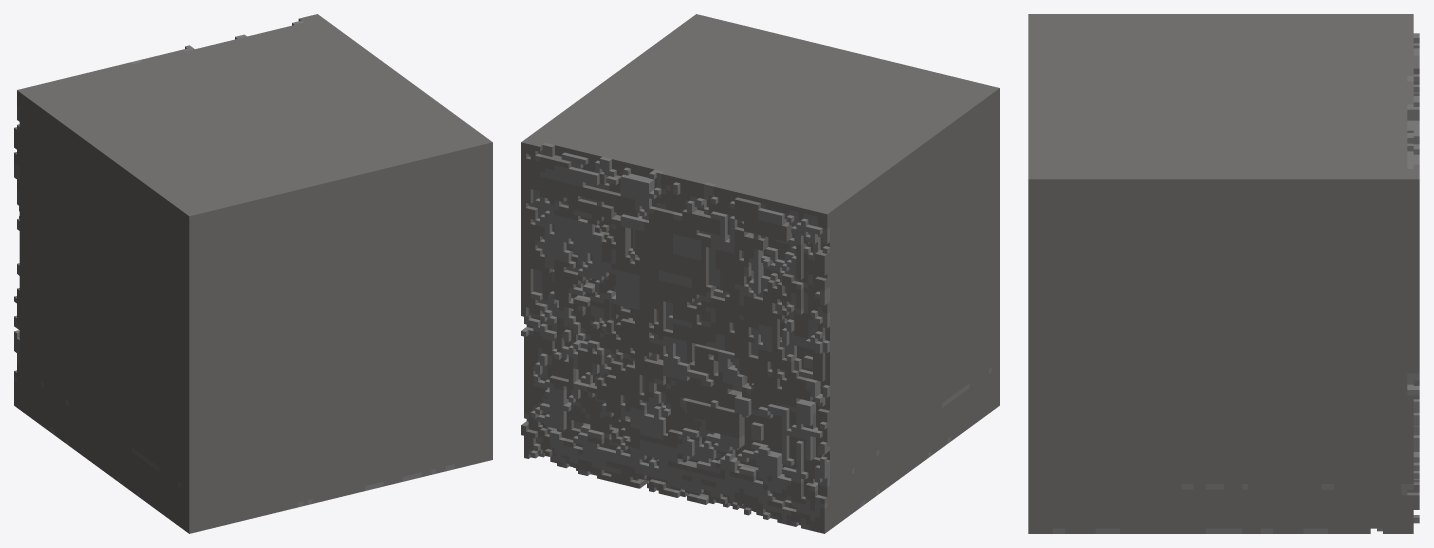
The model's file is MapWIP_v02-29.obj.
3 renders of one model, left to right at view 1: azimuth 30°, elevation 25°; view 2: azimuth 150°, elevation 25°; view 3: azimuth 270°, elevation 25°, orthographic. The views are drawn at different scales.
Bounding box in the file's own units: 6.4 × 6.4 × 6.4.
Materials: 1 (1 with a texture image).
